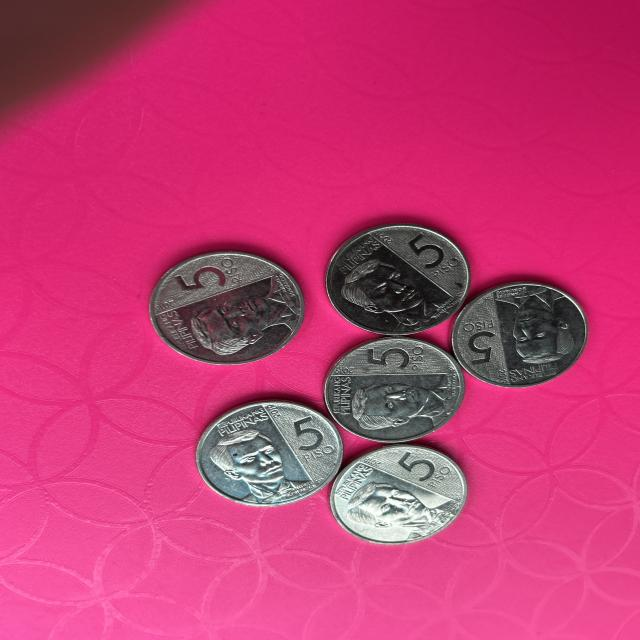5_New_Front: (390, 226, 466, 296), (282, 410, 352, 480), (376, 445, 456, 500), (165, 256, 254, 298), (363, 340, 429, 385), (460, 319, 509, 370)
